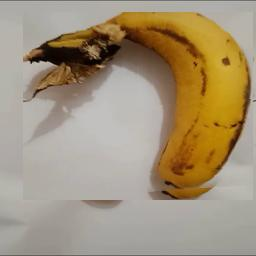Banana Semifresh: (23, 12, 253, 200)
